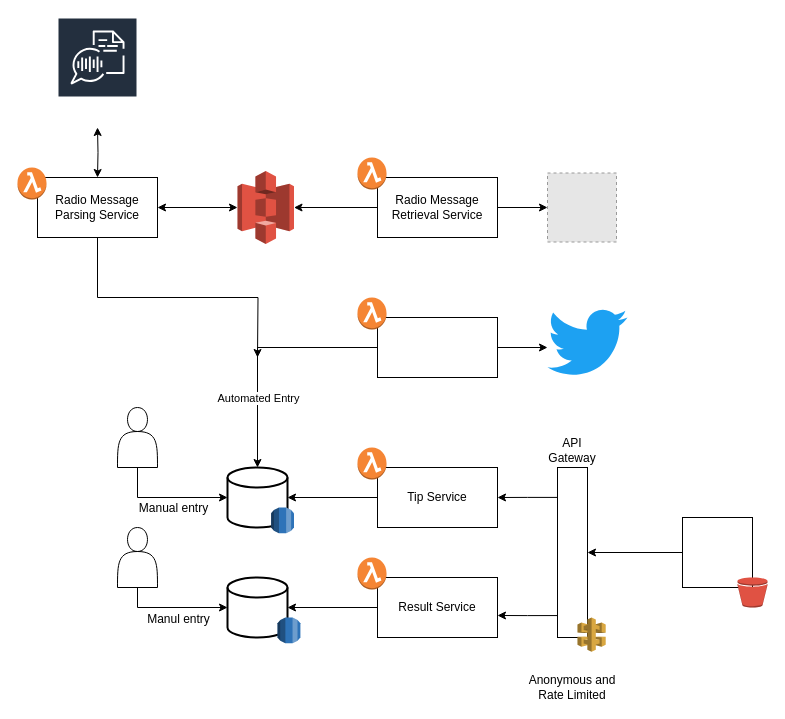
The diagram is 785 pixels wide and 719 high, and some of its shapes have lost their labels. Grey dashed boxes stand in for pictures. The box of each missing label's shape, as (x1, y1, x2, y2) in pixels:
Amazon Transcribe: (56, 16, 138, 128)
Twitter Message Retrieval Service: (376, 316, 498, 378)
Web: (682, 516, 752, 588)
